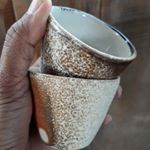cups: (39, 4, 139, 85)
